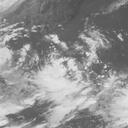cyclone: (35, 57, 87, 107)
